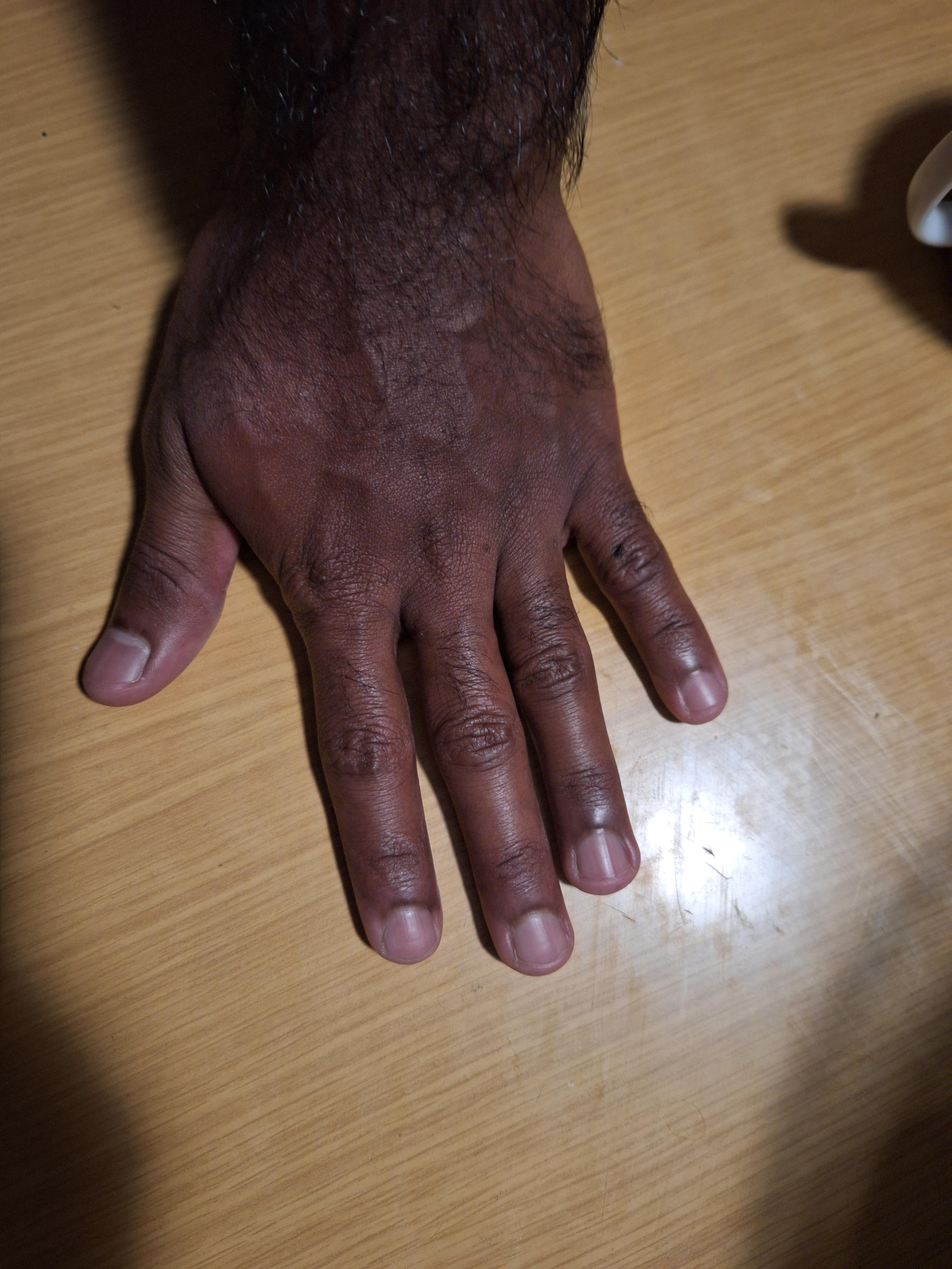Fingernail: (85, 630, 150, 688), (512, 913, 569, 963), (384, 909, 437, 960), (576, 834, 630, 880), (682, 673, 722, 711)
